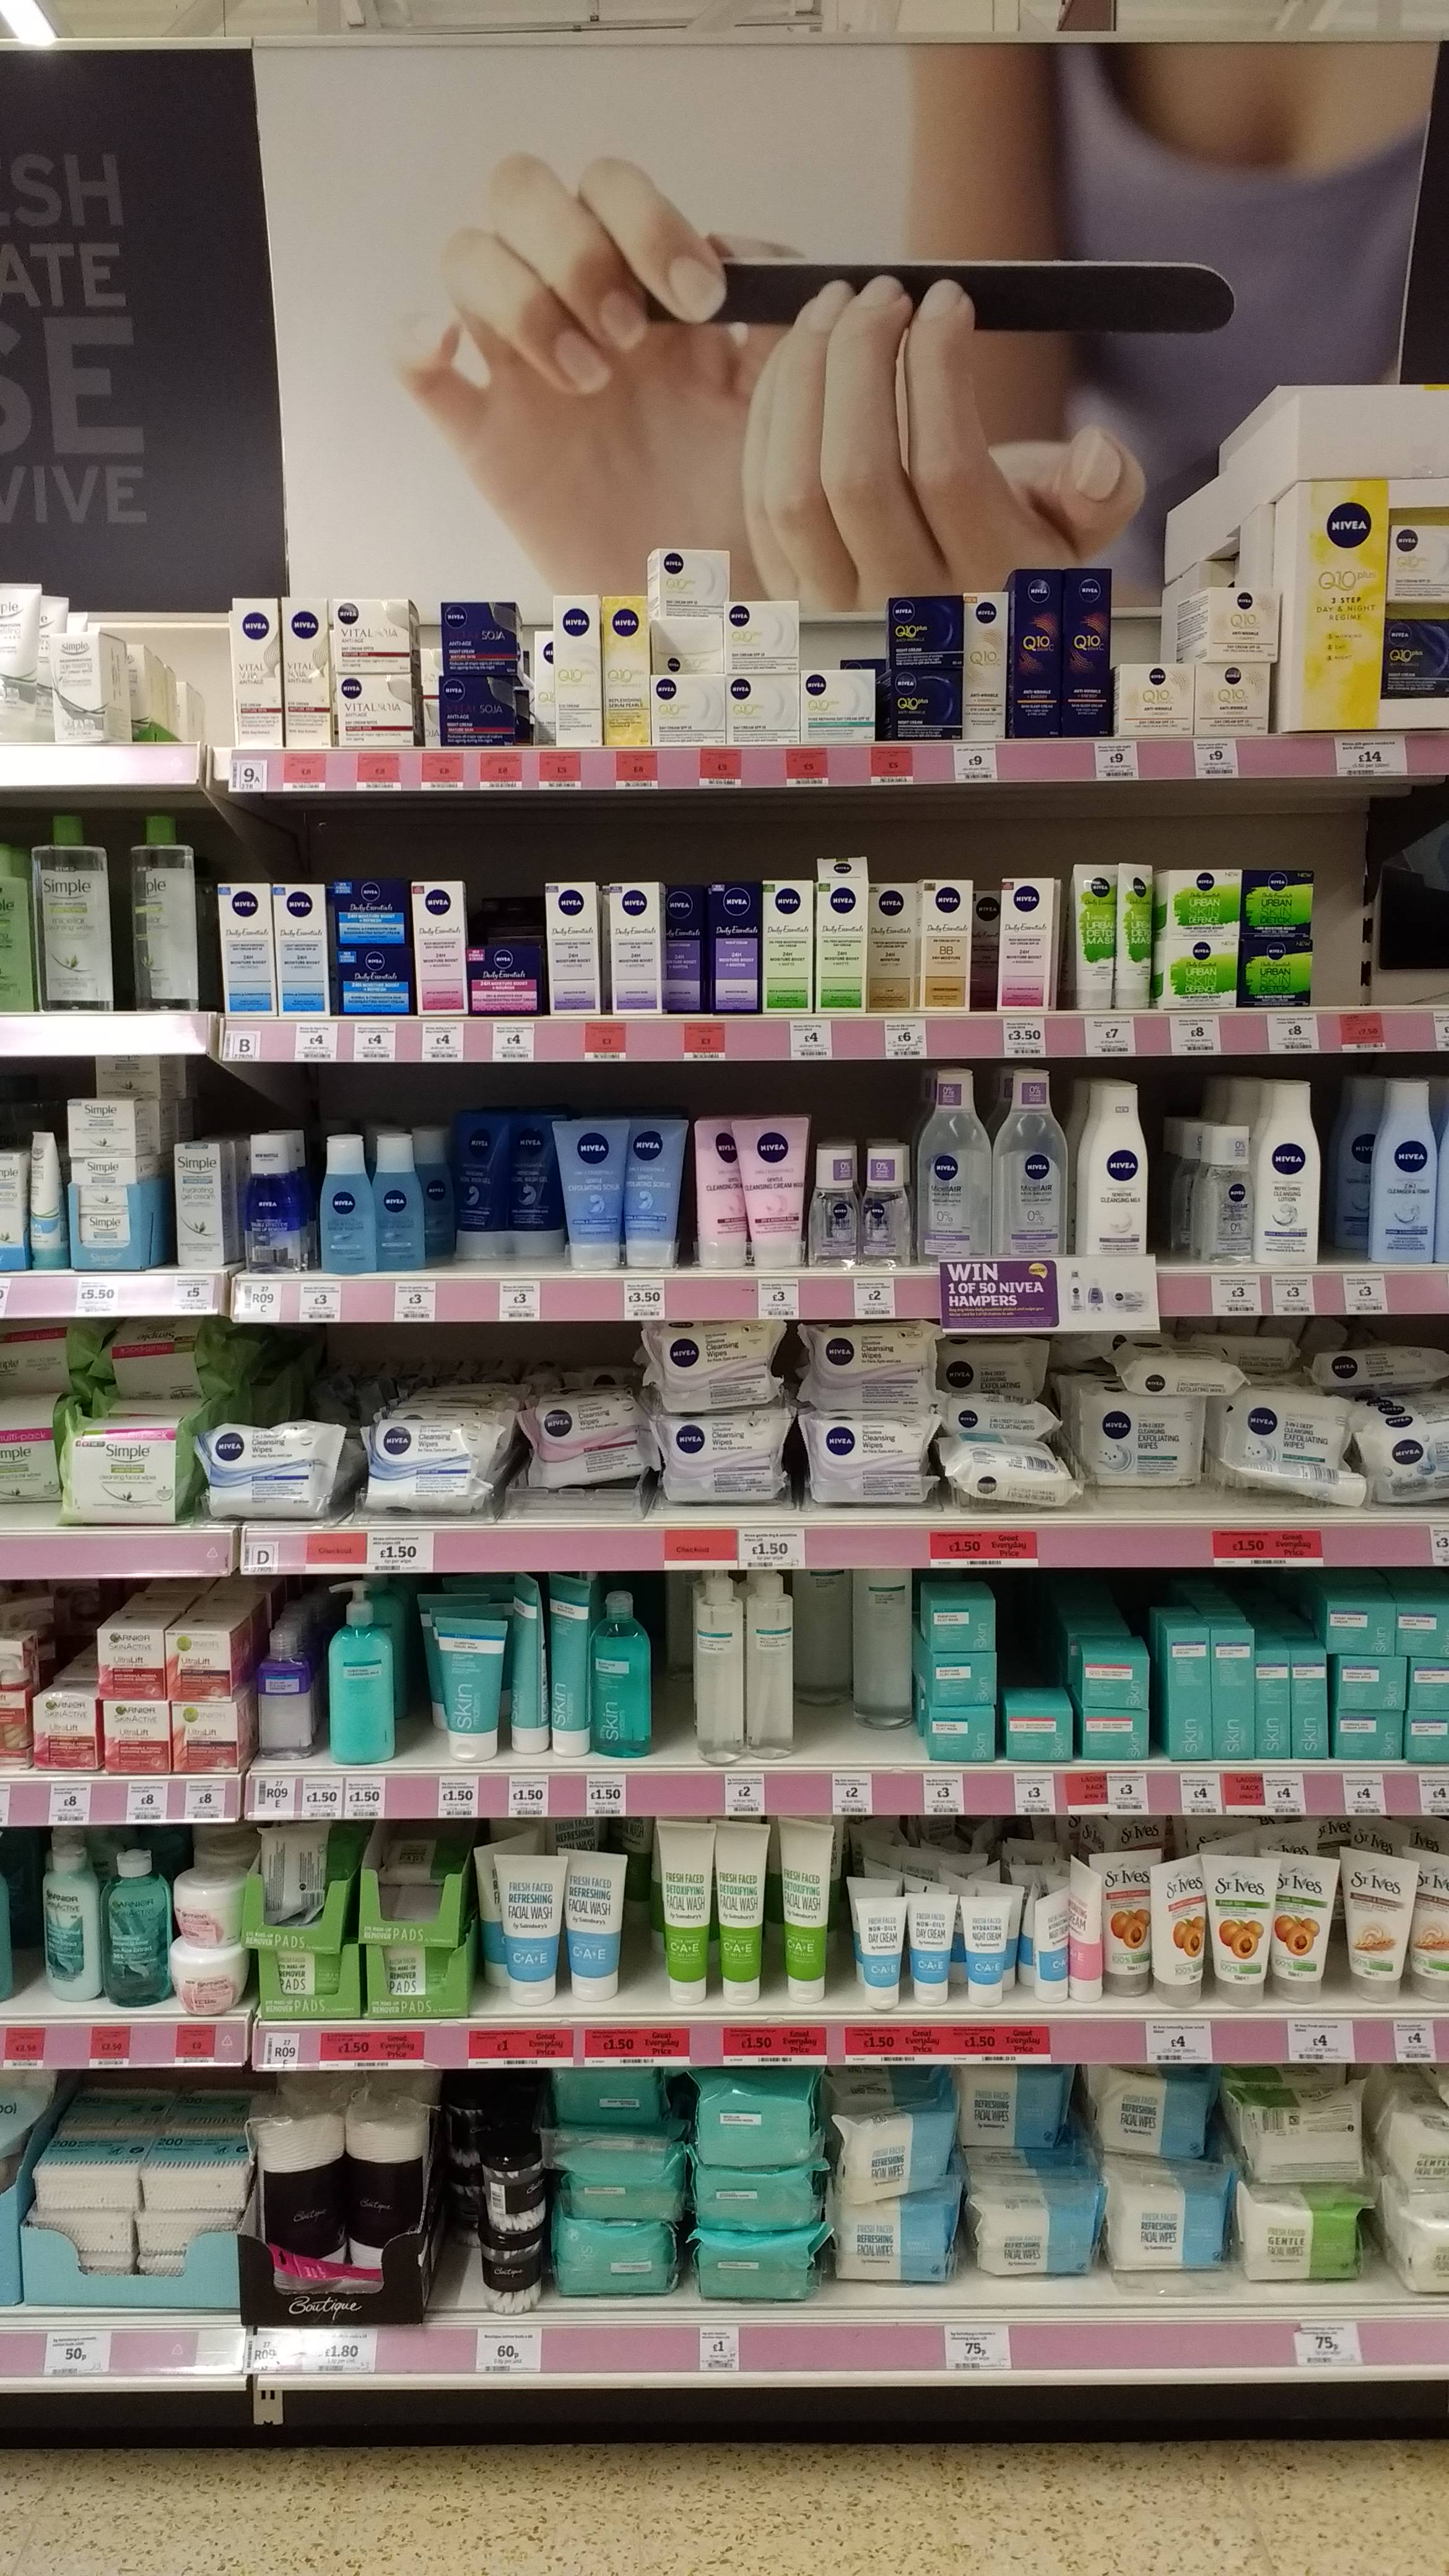Misplacement: (453, 1116, 561, 1276)
Out-of-stock: (1313, 870, 1412, 1007)
